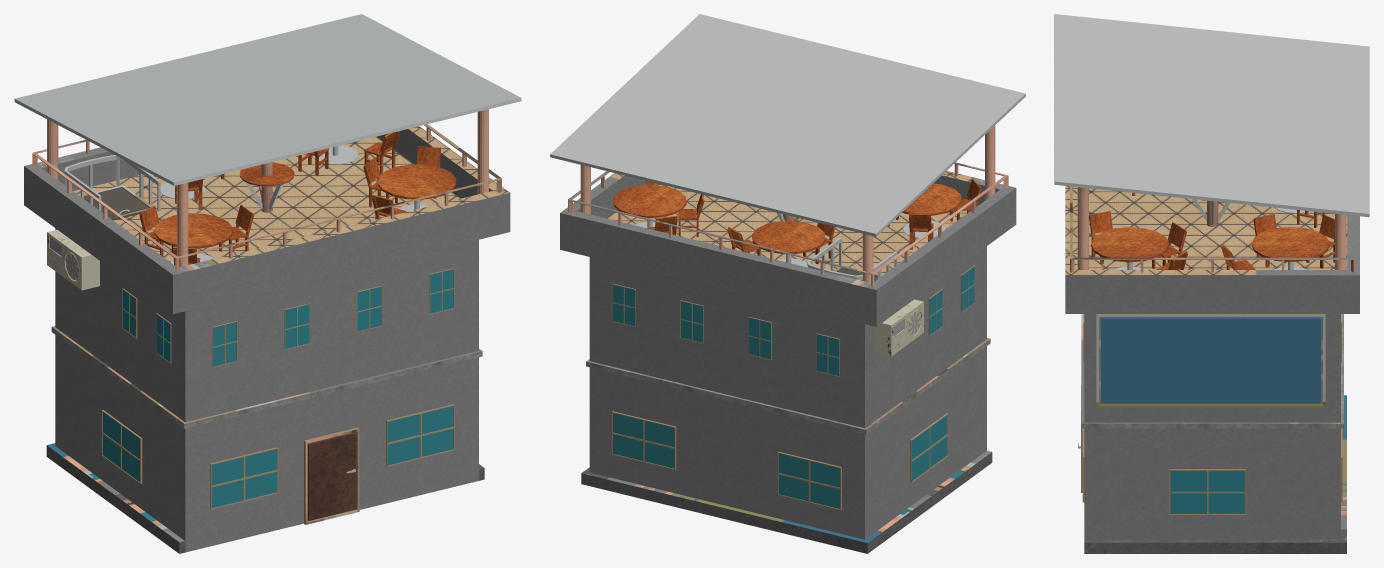
Rendered from House_D.fbx.
3 renders of one model, left to right at view 1: azimuth 30°, elevation 25°; view 2: azimuth 150°, elevation 25°; view 3: azimuth 270°, elevation 25°, orthographic. The views are drawn at different scales.
Visible parts, largest first — view 1: House; view 2: House; view 3: House.
Part boxes in pixels (box(x1,y1,x2,y2)): House: box(14, 14, 521, 553); House: box(550, 14, 1025, 553); House: box(1054, 14, 1369, 553).
Size of the model in its own units: 874 by 932 by 696.
